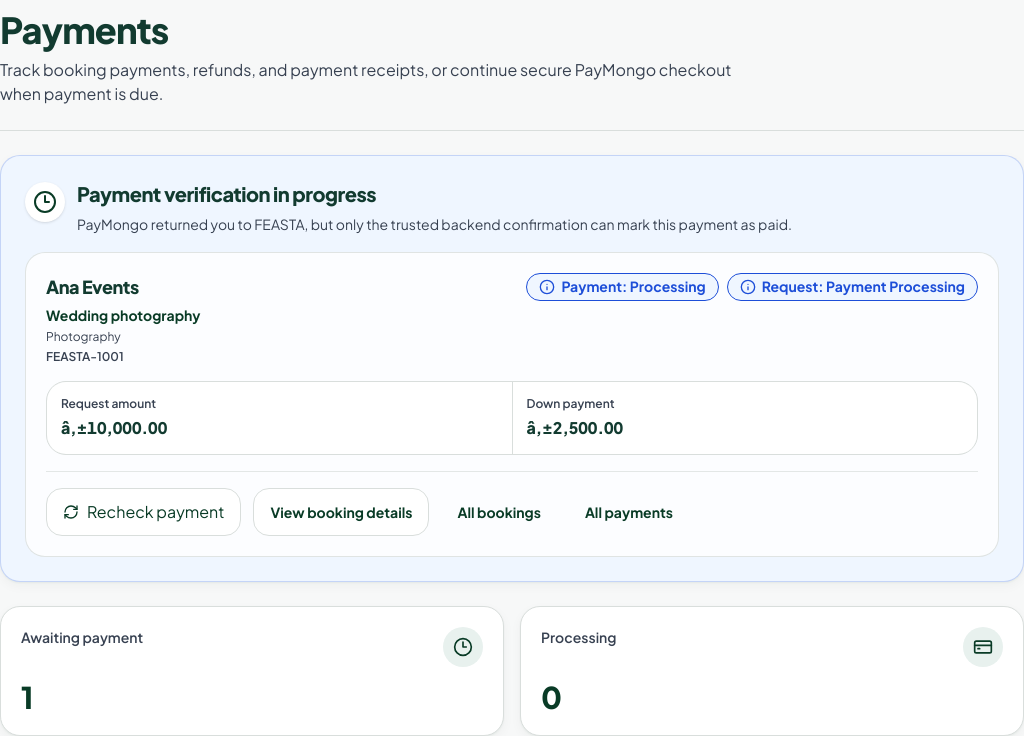
Test: customer payments › reconciles a terminal failed recheck
The width and height of the screenshot is (1024, 736).
Click the button "Recheck payment": x=144, y=512 x1=46 y1=488 x2=242 y2=536
(page scrolled)
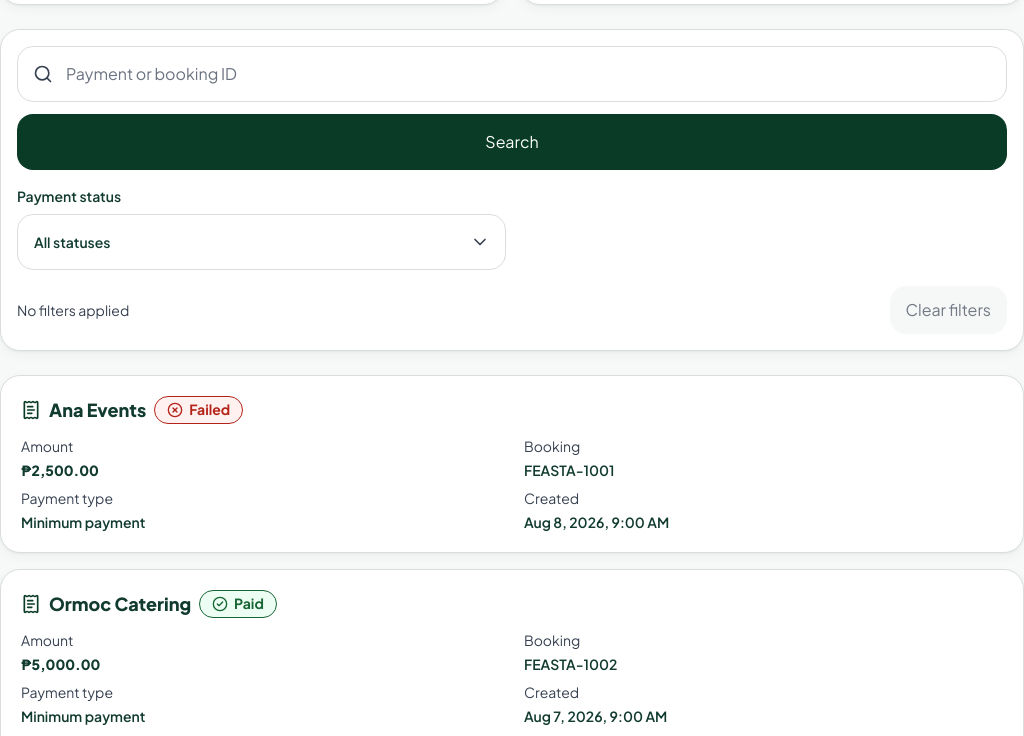
Expected: the element "Ana Events" is shown, x1=0 y1=375 x2=1023 y2=553
Now the text "Failed" is shown, box x1=189 y1=401 x2=230 y2=419
